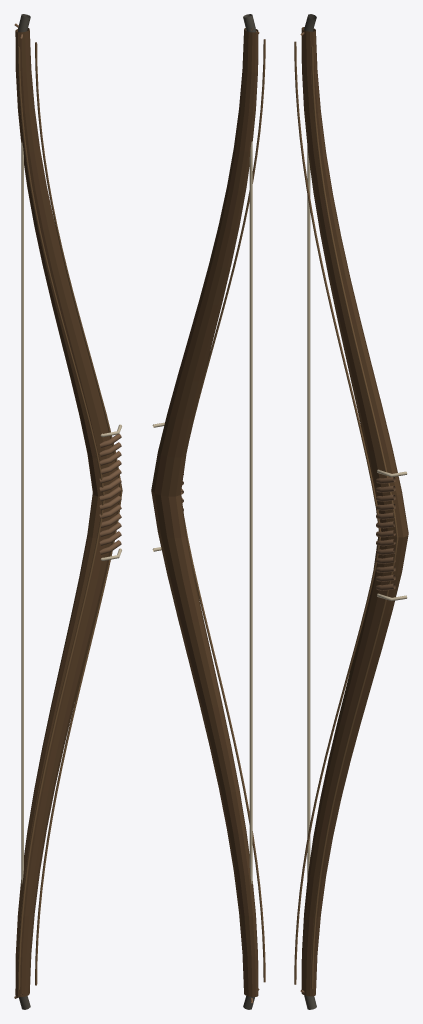
File: period_bow.glb
3 views of the same model, side by side, from view 1: azimuth 30°, elevation 25°; view 2: azimuth 150°, elevation 25°; view 3: azimuth 330°, elevation 25° (orthographic).
Parts seen in each view (by area): view 1: Tapered bent wooden bow stave, Laminated bow limb grain, Laminated bow limb grain.001, Taut natural cord; view 2: Tapered bent wooden bow stave, Taut natural cord, Laminated bow limb grain; view 3: Tapered bent wooden bow stave, Taut natural cord, Laminated bow limb grain, Laminated bow limb grain.001.
Part boxes in pixels (x1,y1,x2,y2): Tapered bent wooden bow stave: (15, 28, 122, 996); Laminated bow limb grain: (18, 46, 104, 989); Laminated bow limb grain.001: (35, 42, 122, 985); Taut natural cord: (21, 141, 23, 883); Tapered bent wooden bow stave: (151, 28, 258, 996); Taut natural cord: (249, 141, 252, 883); Laminated bow limb grain: (184, 39, 265, 982); Tapered bent wooden bow stave: (301, 27, 408, 996); Taut natural cord: (307, 146, 310, 878); Laminated bow limb grain: (294, 41, 381, 984); Laminated bow limb grain.001: (311, 45, 398, 988).
Bounding box in the file's own units: 0.1534 × 1.34 × 0.0324.
